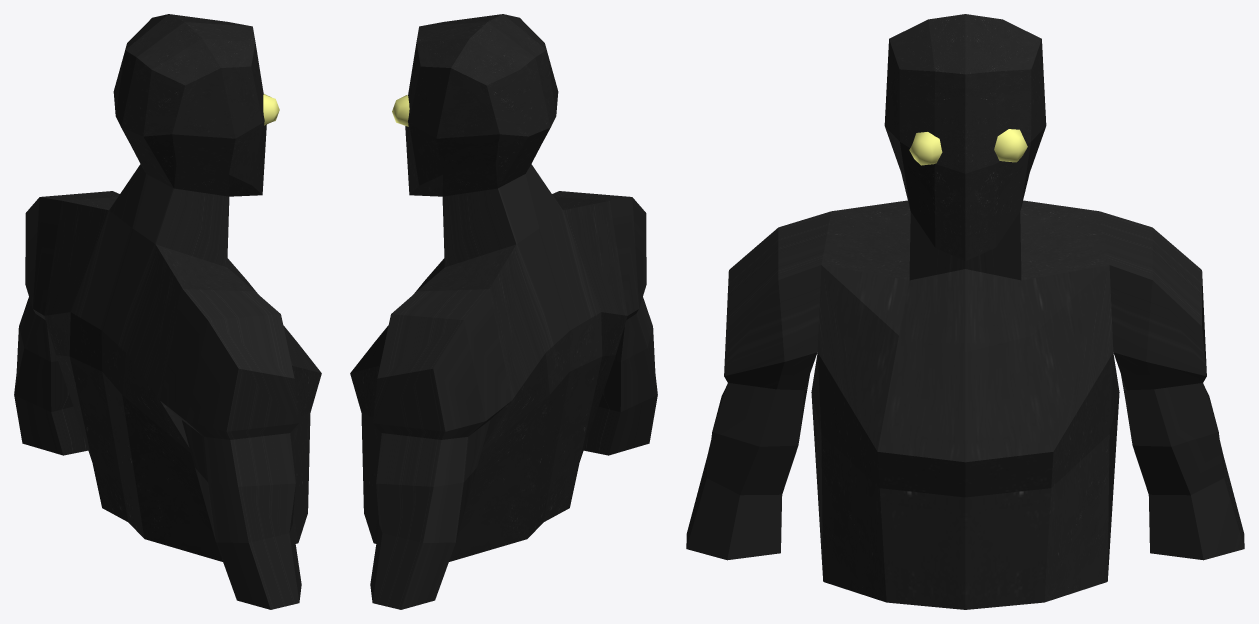
Rendered from chel.fbx.
3 renders of one model, left to right at view 1: azimuth 30°, elevation 25°; view 2: azimuth 150°, elevation 25°; view 3: azimuth 270°, elevation 25°, orthographic. The views are drawn at different scales.
Visible parts, largest first — view 1: Cube1; view 2: Cube1; view 3: Cube1.
Part boxes in pixels (bbox=[...]): Cube1: bbox=[14, 14, 321, 609]; Cube1: bbox=[350, 14, 657, 609]; Cube1: bbox=[686, 14, 1244, 609].
Size of the model in its own units: 32.33 by 74.5 by 69.69.
